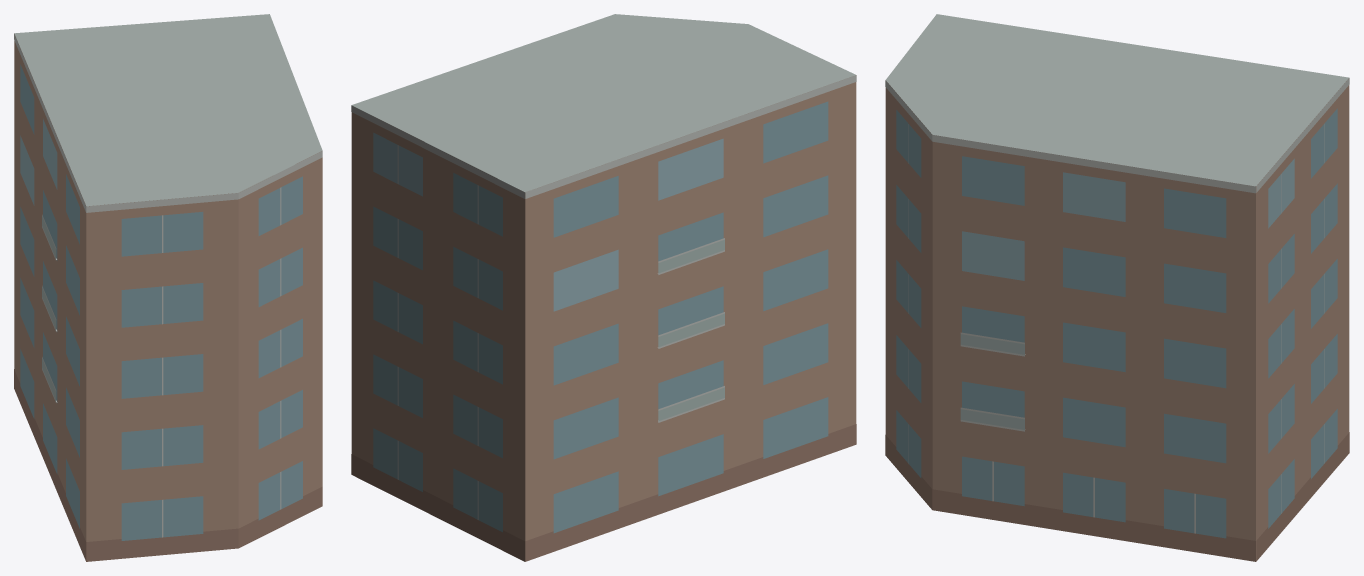
Rendered from survey-upis-32868955.glb.
3 renders of one model, left to right at view 1: azimuth 30°, elevation 25°; view 2: azimuth 150°, elevation 25°; view 3: azimuth 270°, elevation 25°, orthographic. The views are drawn at different scales.
Visible parts, largest first — view 1: survey-upis-32868955.tmp; view 2: survey-upis-32868955.tmp; view 3: survey-upis-32868955.tmp.
Boxes of the visible parts, bbox=[...] form: survey-upis-32868955.tmp: bbox=[14, 14, 322, 561]; survey-upis-32868955.tmp: bbox=[351, 14, 856, 561]; survey-upis-32868955.tmp: bbox=[885, 14, 1349, 561].
Bounding box in the file's own units: 13.01 × 13.2 × 14.79.
